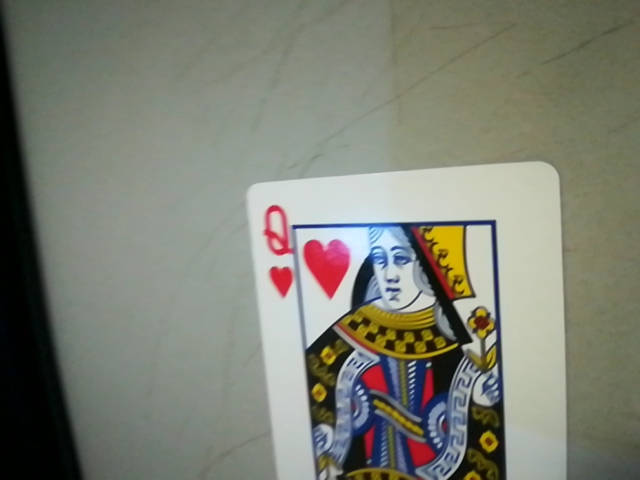hx q: (251, 197, 302, 303)
